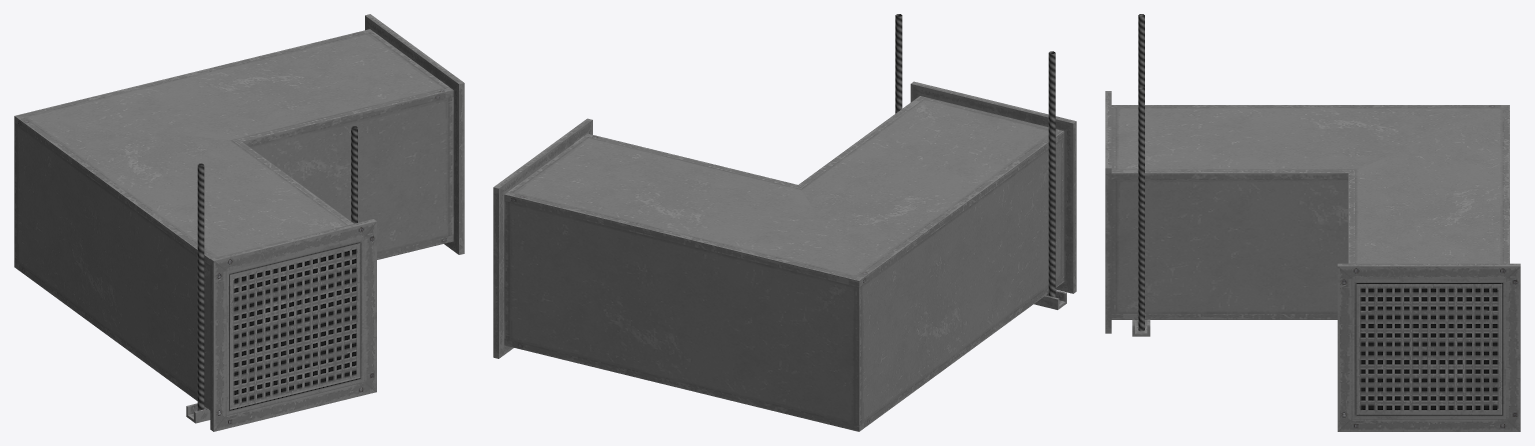
Rendered from HH_Ventilation_Angle_02.fbx.
The picture shows the model from 3 angles, left to right: view 1: azimuth 30°, elevation 25°; view 2: azimuth 150°, elevation 25°; view 3: azimuth 270°, elevation 25°; orthographic projection. The views are drawn at different scales.
Parts seen in each view (by area): view 1: HH_Ventilation_Angle_02; view 2: HH_Ventilation_Angle_02; view 3: HH_Ventilation_Angle_02.
Boxes of the visible parts, <box> form: HH_Ventilation_Angle_02: <box>14,14,464,431</box>; HH_Ventilation_Angle_02: <box>493,14,1076,431</box>; HH_Ventilation_Angle_02: <box>1105,14,1520,431</box>.
Bounding box in the file's own units: 130 × 83.44 × 128.
